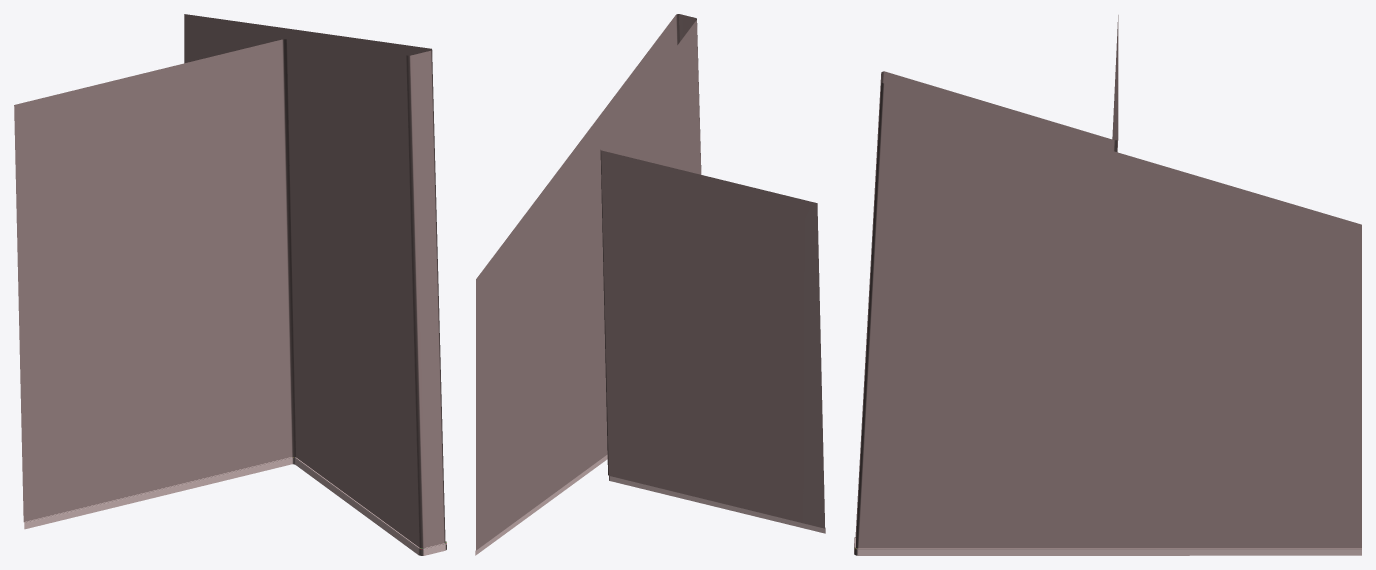
Rendered from SR_Wall_01.fbx.
3 views of the same model, side by side, from view 1: azimuth 30°, elevation 25°; view 2: azimuth 150°, elevation 25°; view 3: azimuth 270°, elevation 25° (orthographic). The views are drawn at different scales.
Visible parts, largest first — view 1: SR_Wall_01_LOD0; view 2: SR_Wall_01_LOD0; view 3: SR_Wall_01_LOD0.
Boxes of the visible parts, left/top/right/bottom form: SR_Wall_01_LOD0: left=14, top=14, right=446, bottom=555; SR_Wall_01_LOD0: left=475, top=14, right=825, bottom=555; SR_Wall_01_LOD0: left=854, top=15, right=1361, bottom=555.
Size of the model in its own units: 546 by 859 by 837.
